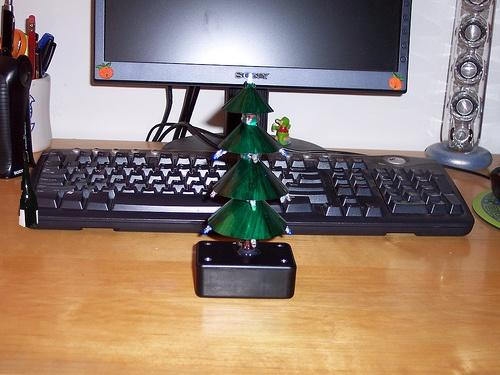tampered: (20, 160, 38, 227)
